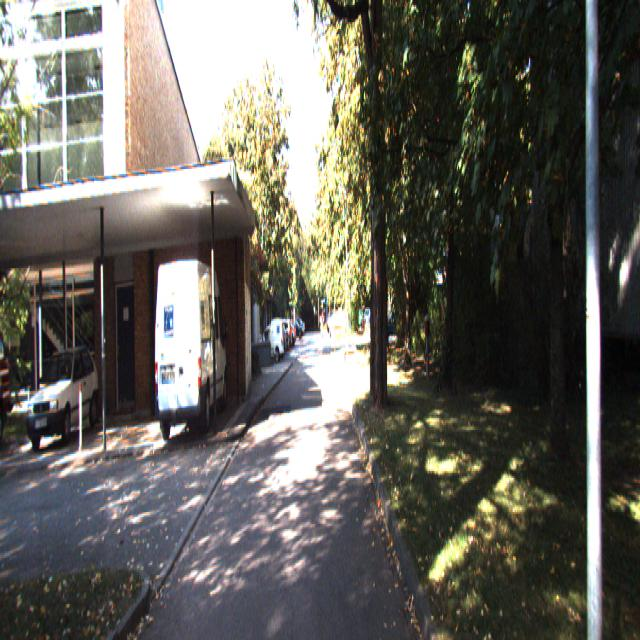Car: (157, 256, 227, 444), (26, 345, 102, 452)
